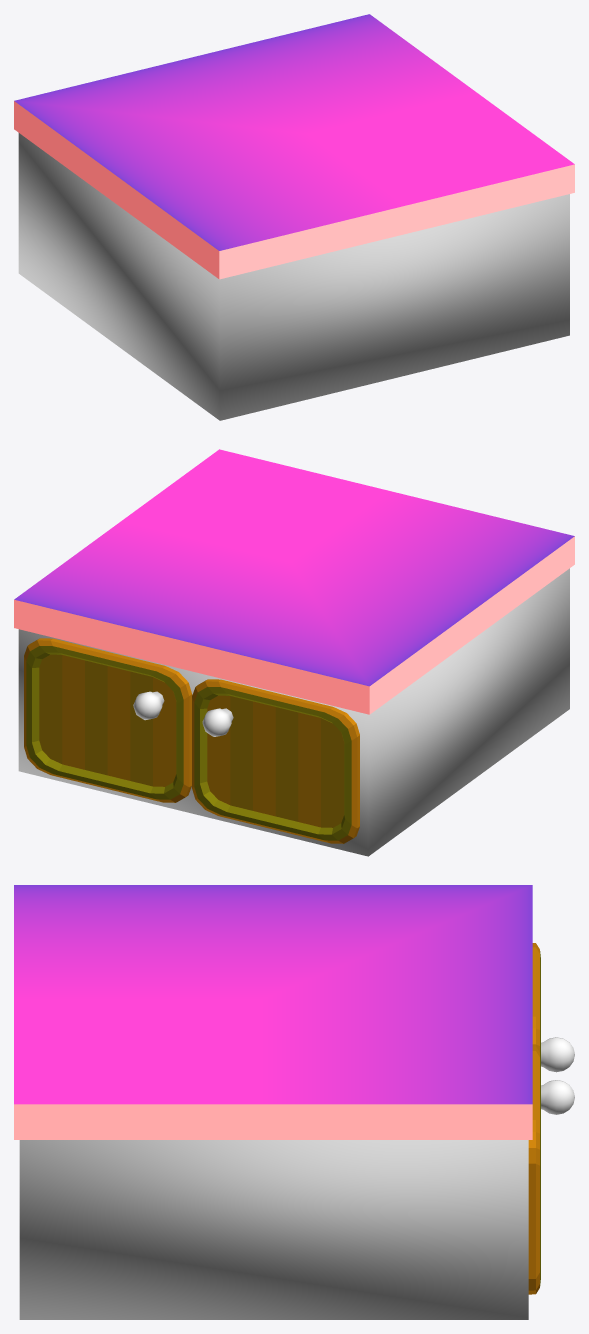
File: Counter.fbx
3 views of the same model, one above another, from view 1: azimuth 30°, elevation 25°; view 2: azimuth 150°, elevation 25°; view 3: azimuth 270°, elevation 25° (orthographic). The views are drawn at different scales.
Parts seen in each view (by area): view 1: Counter_1, Counter_Surface, Counter_Top; view 2: Counter_Surface, Counter_Doors, Counter_1, Counter_Top, Handles; view 3: Counter_Surface, Counter_1, Counter_Top, Counter_Doors, Handles.
Boxes of the visible parts, x1,y1,x2,y2 form: Counter_1: (18, 133, 569, 420); Counter_Surface: (14, 14, 574, 250); Counter_Top: (14, 101, 574, 279); Counter_Surface: (14, 449, 574, 686); Counter_Doors: (24, 638, 359, 843); Counter_1: (18, 568, 569, 856); Counter_Top: (14, 536, 574, 714); Handles: (133, 691, 233, 736); Counter_Surface: (14, 885, 532, 1104); Counter_1: (19, 1140, 528, 1319); Counter_Top: (14, 1104, 532, 1139); Counter_Doors: (528, 943, 540, 1294); Handles: (541, 1037, 574, 1114).
Bounding box in the file's own units: 100 × 46.23 × 108.
